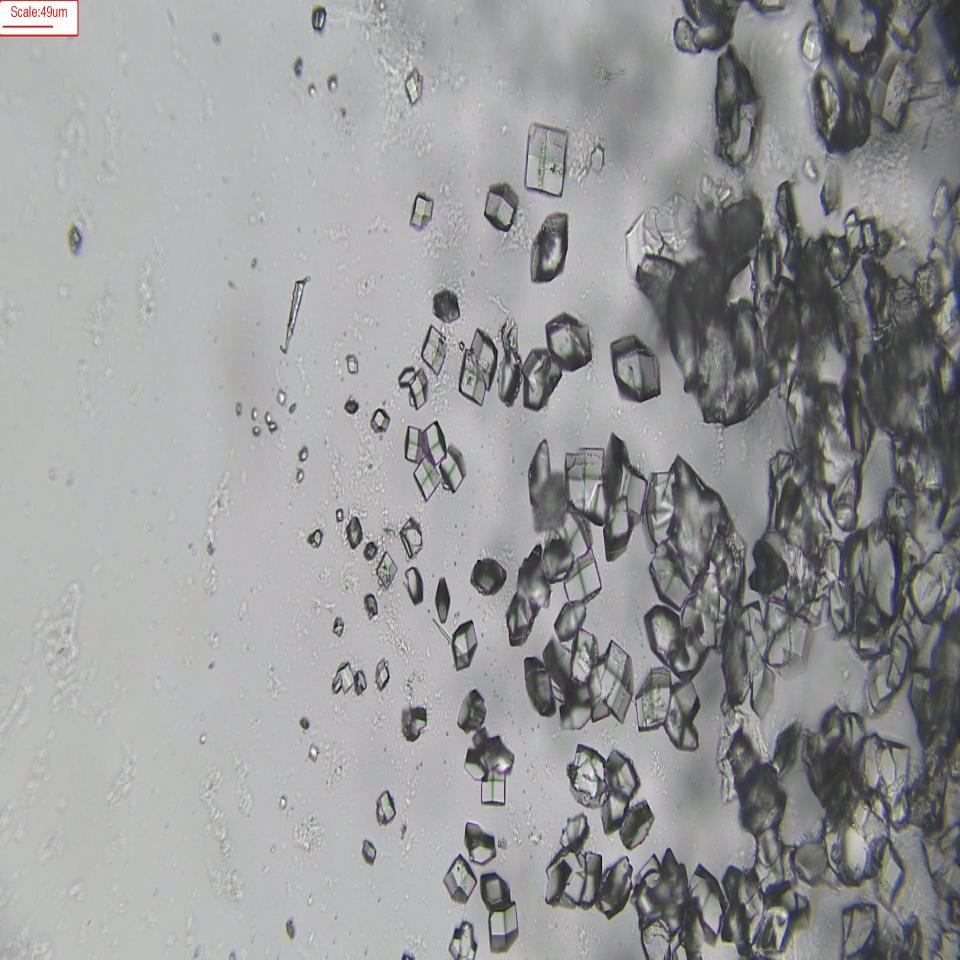crystal: (523, 122, 569, 193), (611, 335, 660, 401), (528, 208, 568, 282), (524, 347, 563, 415), (545, 313, 593, 366), (484, 182, 518, 230), (443, 853, 476, 902), (472, 556, 507, 601), (488, 906, 520, 952), (480, 866, 511, 912), (496, 352, 520, 409), (452, 620, 476, 670), (421, 326, 447, 371), (401, 702, 428, 745), (440, 443, 466, 486), (433, 290, 461, 327), (407, 193, 434, 230), (434, 573, 452, 626), (400, 518, 424, 557), (467, 834, 498, 864), (800, 22, 822, 64), (560, 816, 589, 847), (464, 747, 487, 786), (411, 368, 431, 410), (403, 565, 424, 603), (403, 427, 424, 464), (405, 68, 424, 104), (344, 346, 362, 384), (346, 510, 363, 549), (378, 552, 396, 588), (377, 792, 395, 826), (393, 362, 419, 384), (361, 836, 378, 866), (371, 406, 390, 432), (343, 395, 360, 420), (375, 658, 388, 688)
not_crystal: (783, 251, 860, 498), (829, 540, 959, 657), (719, 722, 792, 899), (655, 471, 746, 601), (806, 718, 909, 822), (640, 858, 724, 960), (562, 438, 643, 542), (547, 844, 634, 918), (567, 744, 637, 826), (518, 547, 604, 603), (573, 636, 631, 714), (462, 330, 494, 404)
